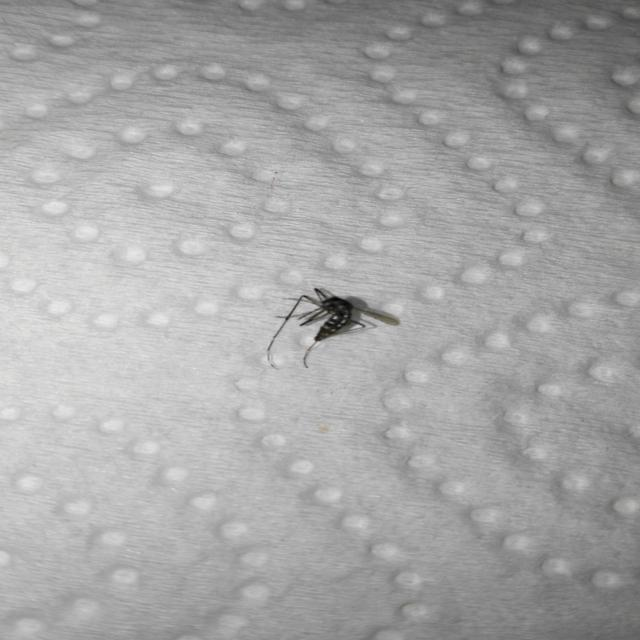albopictus: (258, 281, 401, 373)
